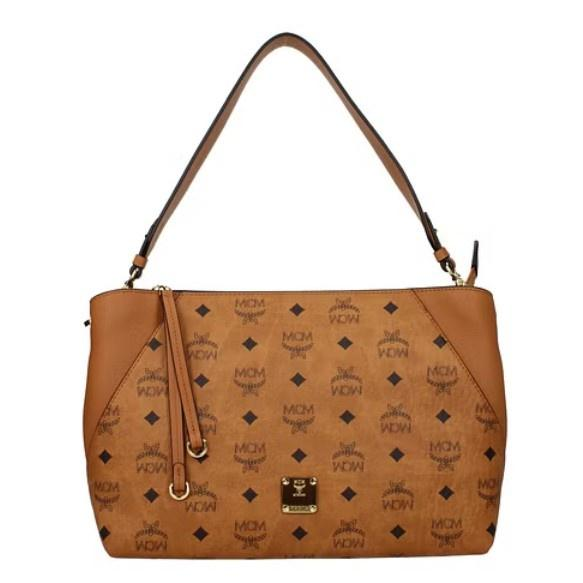MCM: (91, 289, 507, 553)
